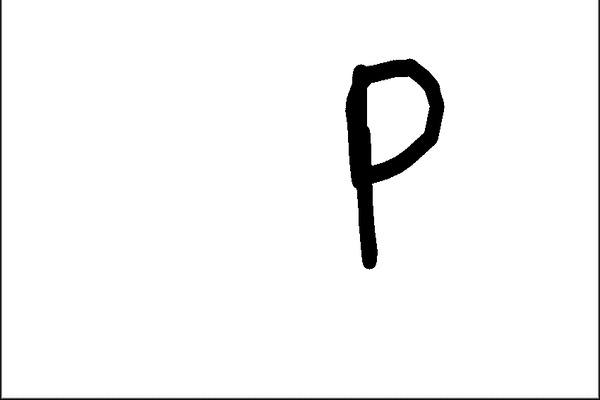P: (320, 47, 455, 283)
